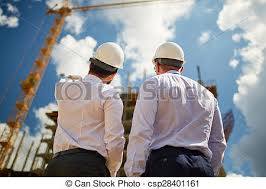casco: (90, 41, 125, 71), (152, 41, 185, 68)
